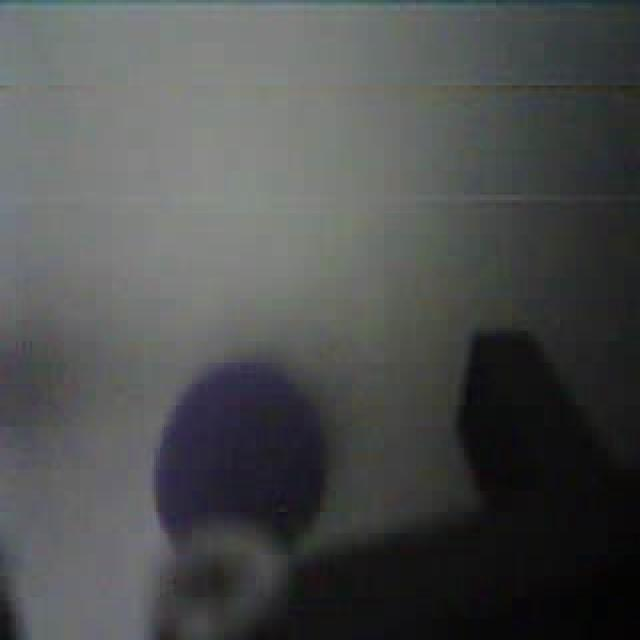blue_ball: (143, 331, 340, 558)
